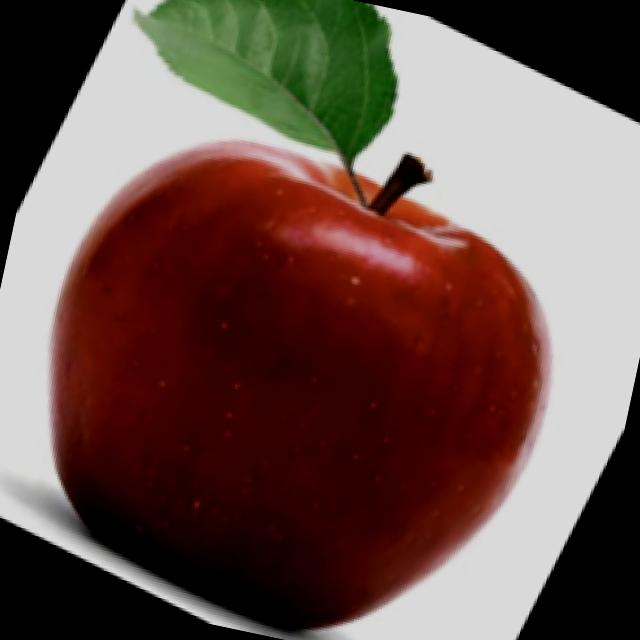Fresh_Apple: (0, 14, 624, 640)
